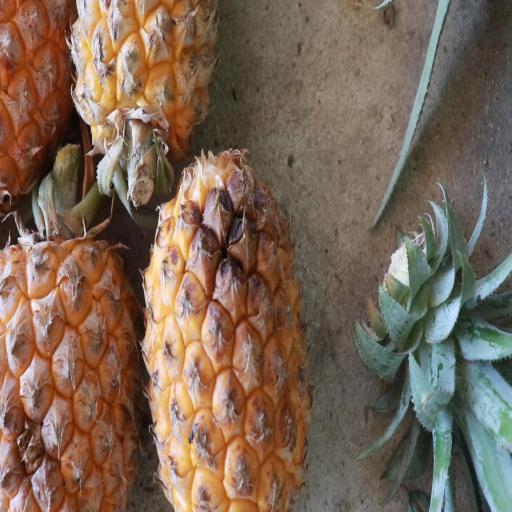Pineapple - v8 v1: (138, 141, 311, 512), (0, 146, 147, 512), (71, 0, 222, 197)
